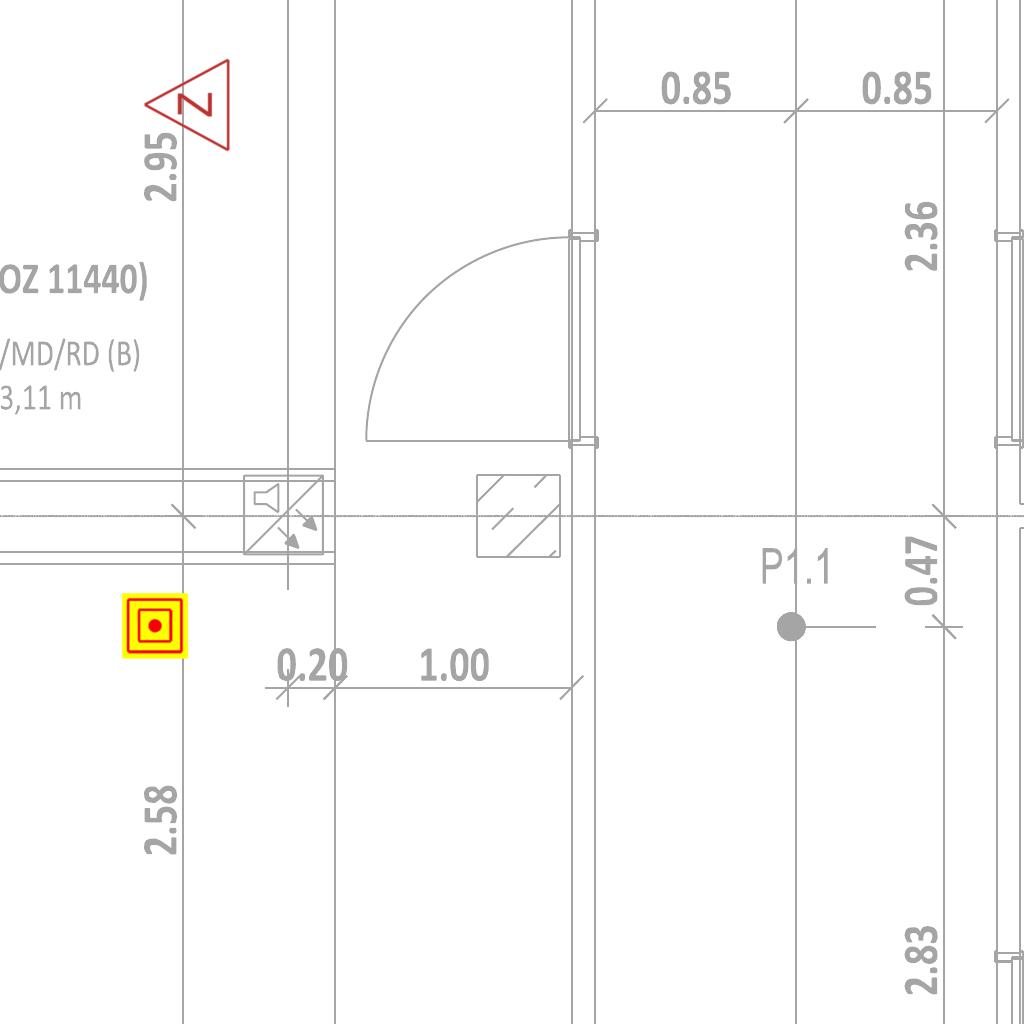NAM-Nichtautomatischer_Melder: (122, 593, 188, 659)
Zimmersignalleuchte: (137, 57, 237, 155)
